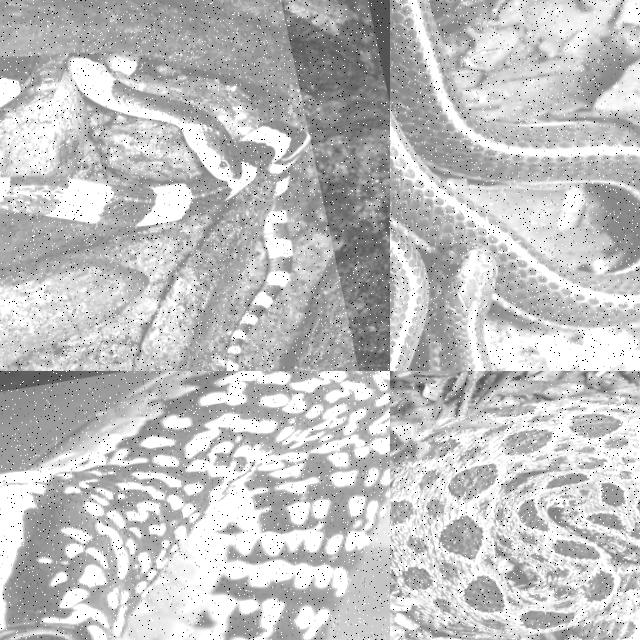Bungarus candidus: (0, 54, 308, 370)
Calliophis intestinalis: (390, 0, 639, 370)
Chrysopelea ornata: (0, 371, 389, 639)
Daboia siamensis: (390, 399, 639, 639)
snake: (0, 371, 389, 639), (0, 54, 308, 370), (390, 0, 639, 370), (390, 399, 639, 639)
